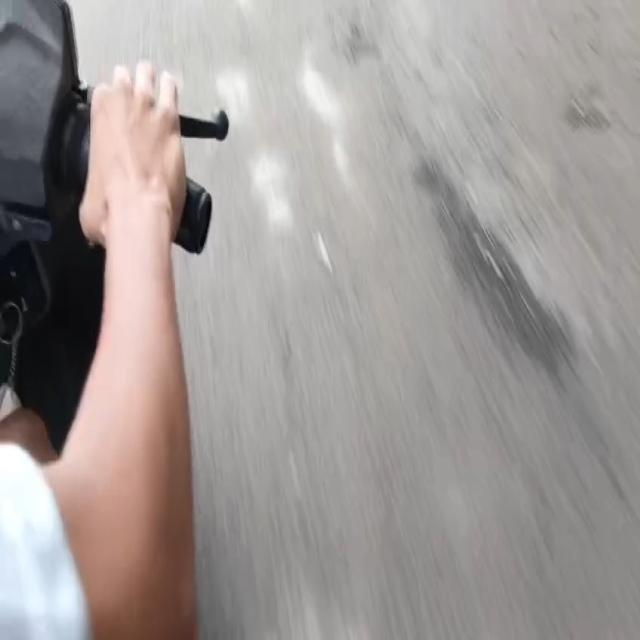road-pothole: (425, 170, 574, 379)
